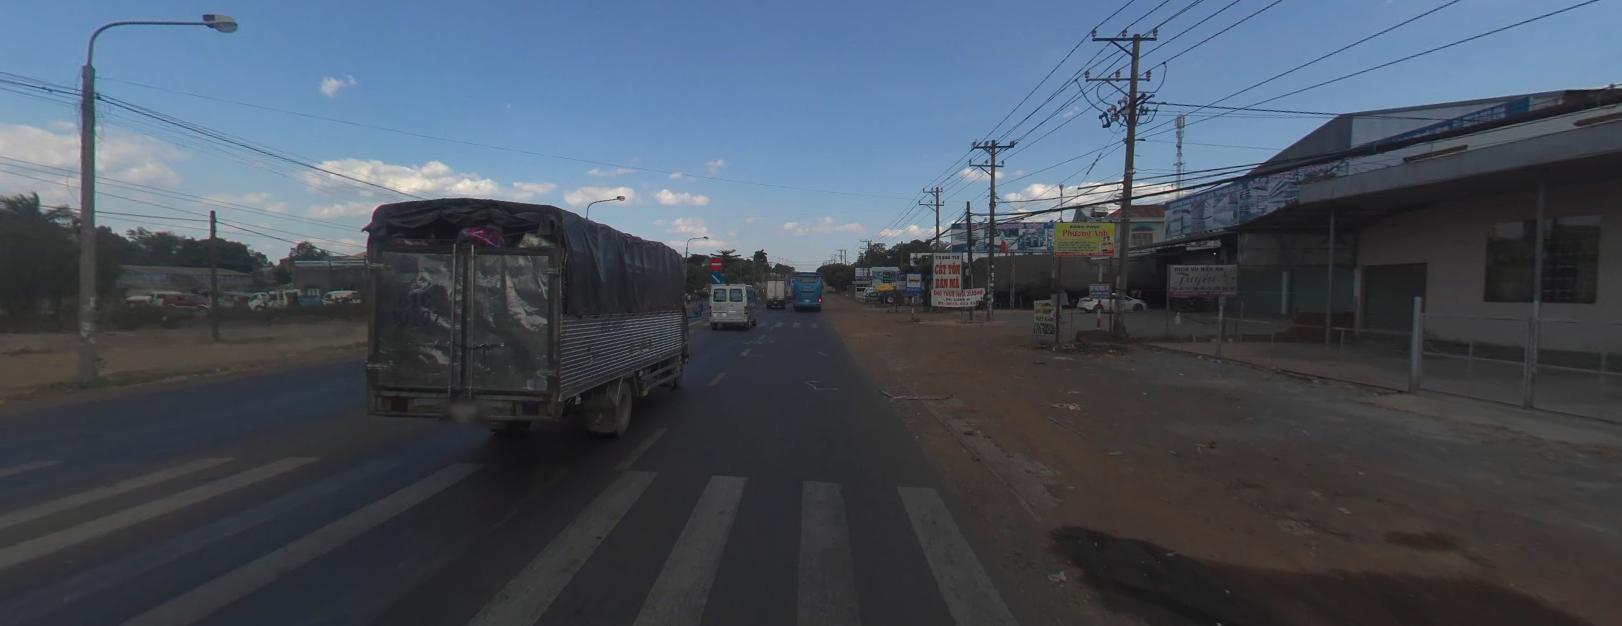Cam nguoc chieu: (709, 256, 721, 268)
Hieu lenh: (709, 271, 721, 282)
